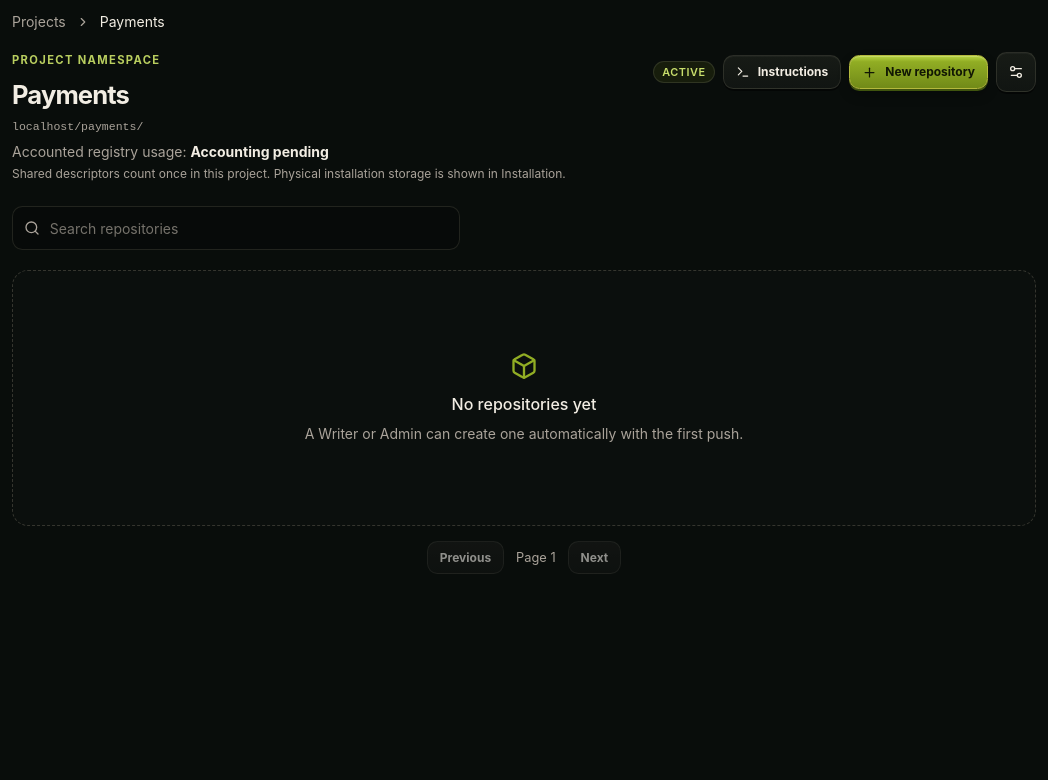
Test: ProjectPage membership management › searches repositories on the server
Step 1. Type "work" into the search field labelled "Search repositories" → (236, 228), box [12, 206, 460, 250]
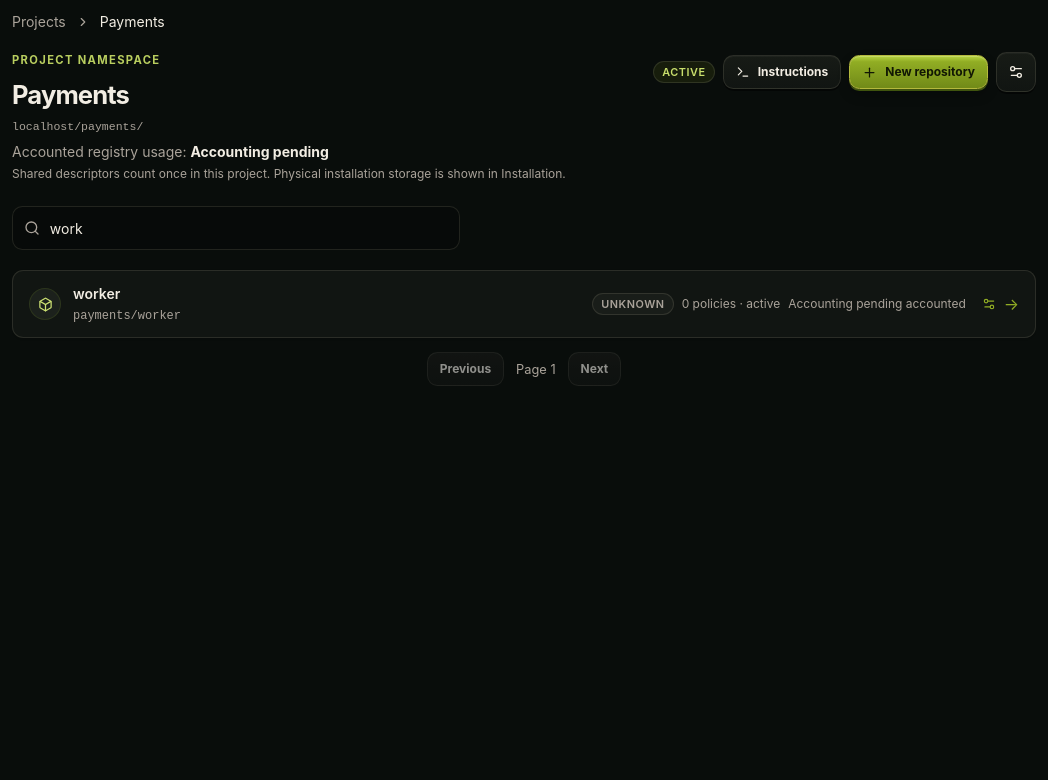
Expected: the text "worker" is shown, [73, 285, 120, 302]
